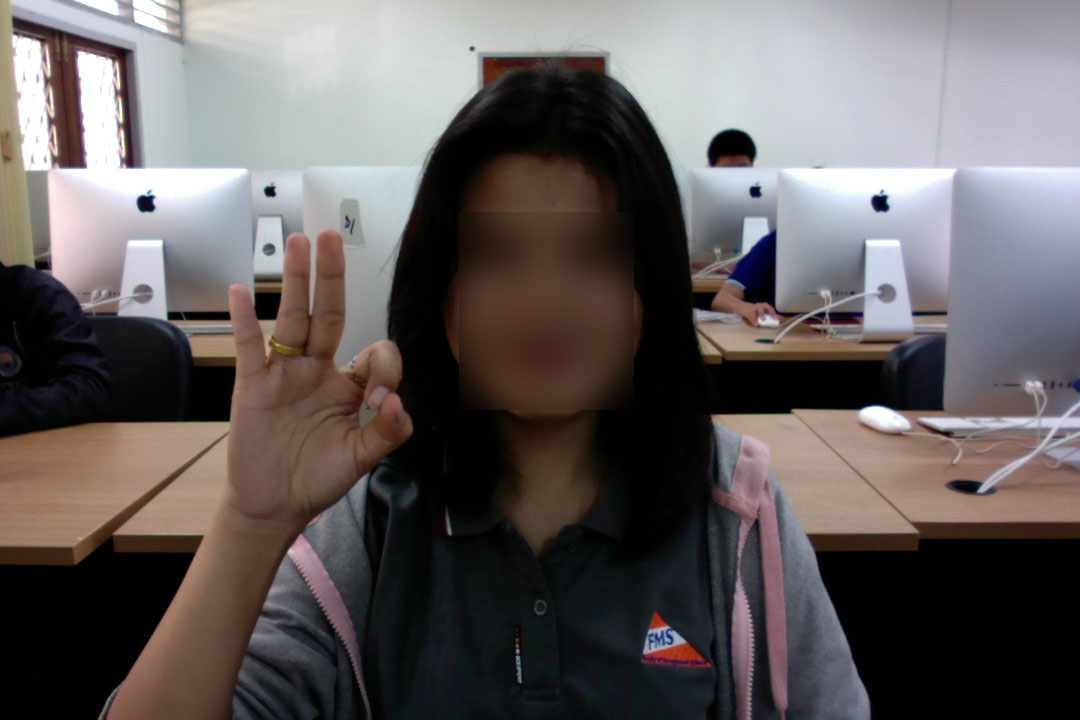for: (212, 215, 417, 527)
